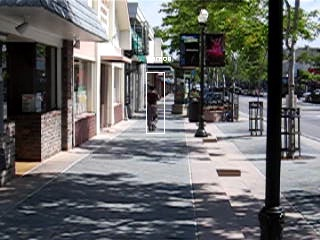person: (145, 87, 160, 134), (144, 87, 159, 134), (146, 87, 161, 134), (145, 86, 160, 133), (145, 88, 160, 135)
target_negative: (39, 43, 204, 170), (198, 6, 319, 117), (179, 133, 237, 208), (137, 54, 241, 87), (78, 139, 172, 170), (1, 162, 214, 164)
